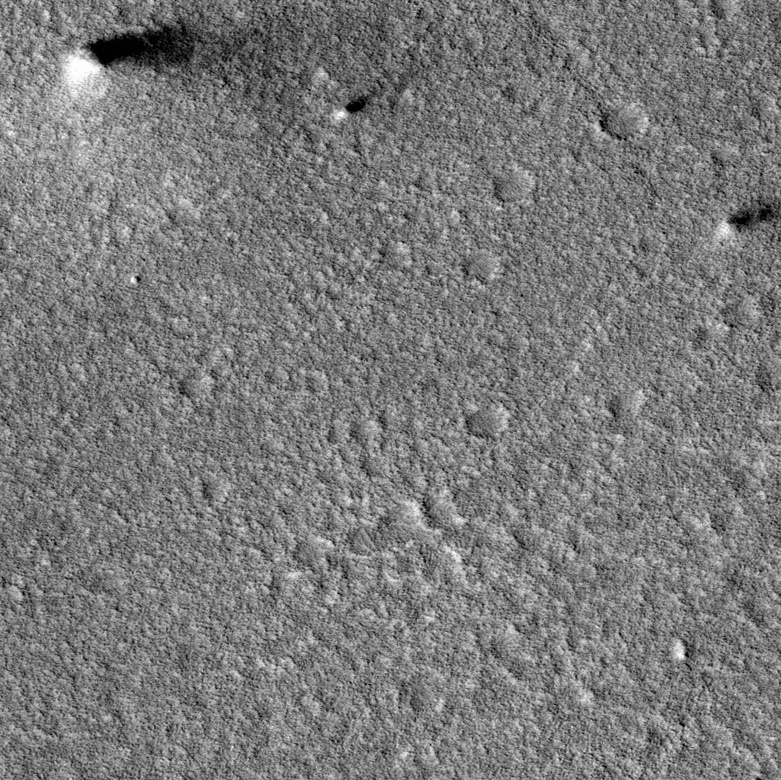dust_devil: (61, 17, 197, 102), (714, 195, 781, 241), (333, 94, 370, 121)
